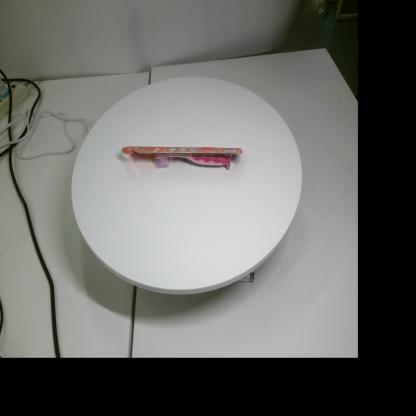Personal Hygiene: (122, 146, 243, 169)
